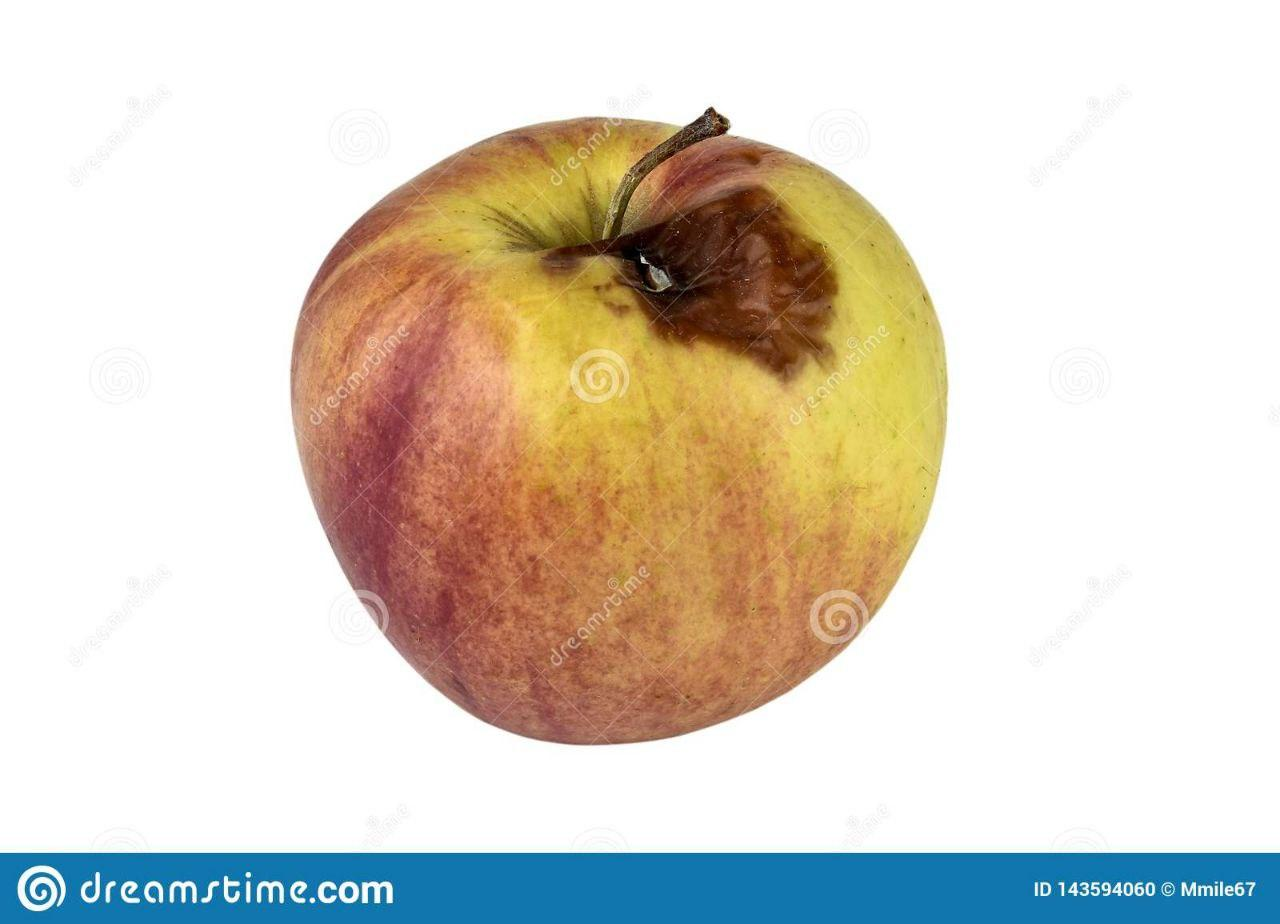Apple: (286, 116, 946, 746)
